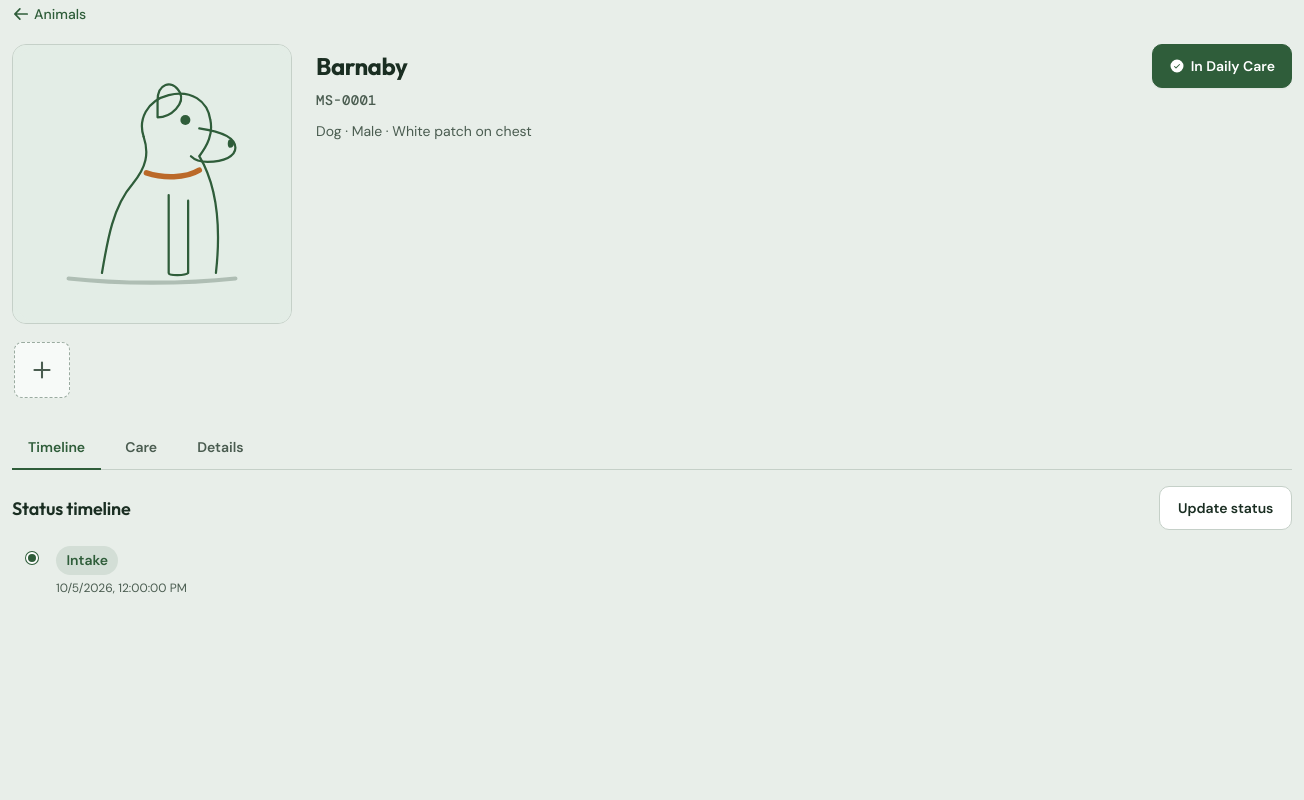
Scenario: AnimalDetailScreen Relationships › renders linked animals with correct badges, thumbnail, and navigation link
The width and height of the screenshot is (1304, 800).
Click the tab "Details".
click(220, 448)  # box [181,426,260,470]
(page scrolled)
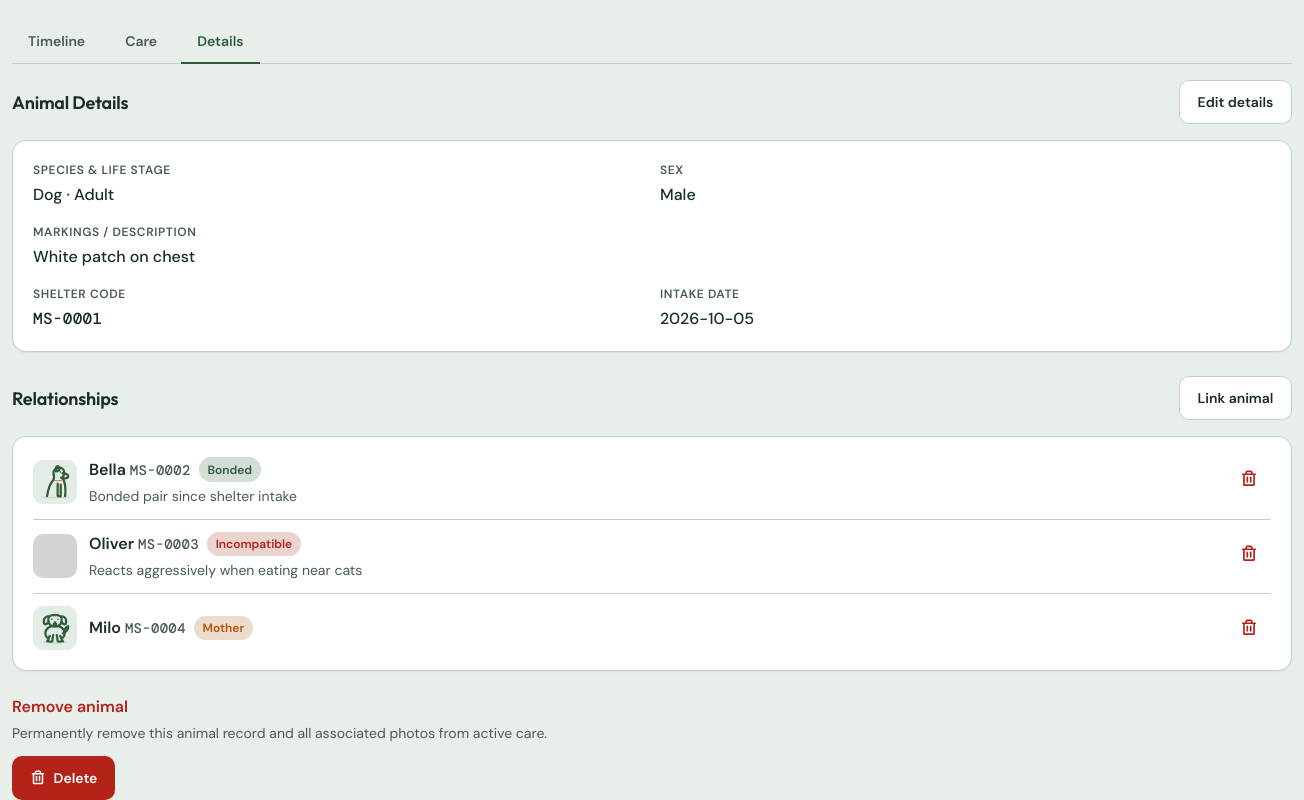
Expected: the text "Bonded pair since shelter intake" is shown, [89,487,297,505]
